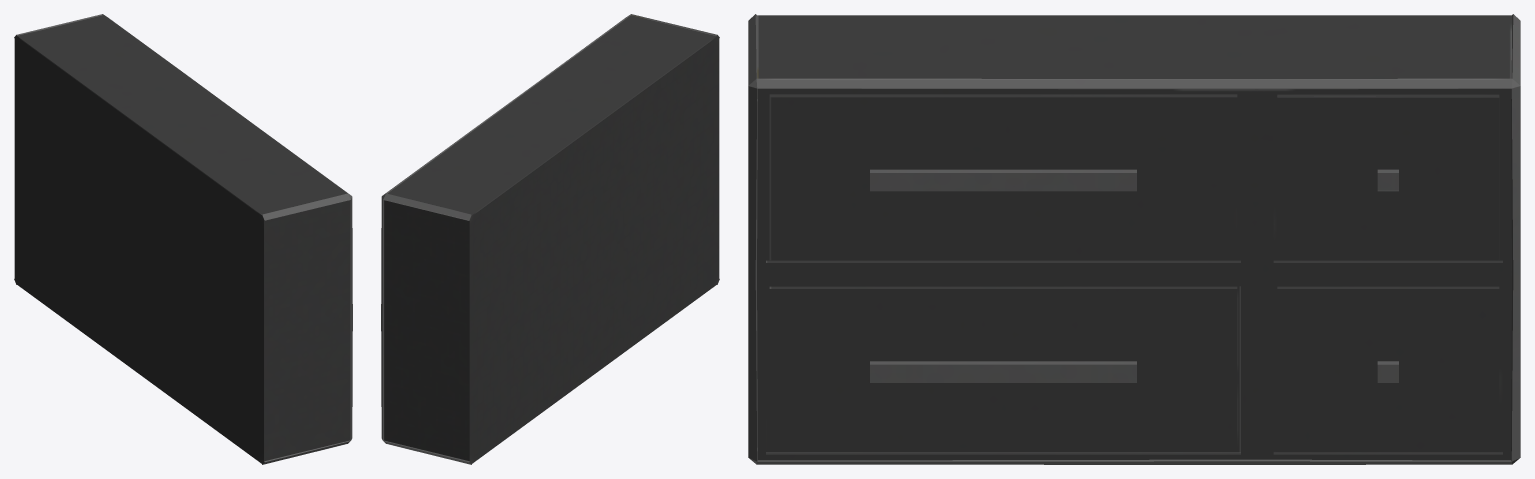
Rendered from CaptainsQuarters_Dresser.fbx.
3 views of the same model, side by side, from view 1: azimuth 30°, elevation 25°; view 2: azimuth 150°, elevation 25°; view 3: azimuth 270°, elevation 25° (orthographic). The views are drawn at different scales.
Parts seen in each view (by area): view 1: CaptainsQuarters_Dresser; view 2: CaptainsQuarters_Dresser; view 3: CaptainsQuarters_Dresser.
Part boxes in pixels (x1,y1,x2,y2): CaptainsQuarters_Dresser: [14, 14, 352, 464]; CaptainsQuarters_Dresser: [381, 14, 719, 464]; CaptainsQuarters_Dresser: [748, 14, 1520, 464].
Size of the model in its own units: 165 by 416 by 755.
